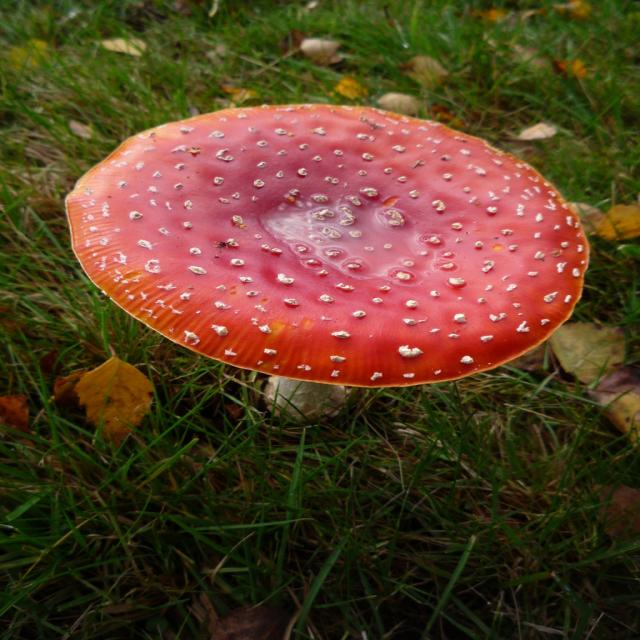Mushroom: (46, 96, 590, 443)
